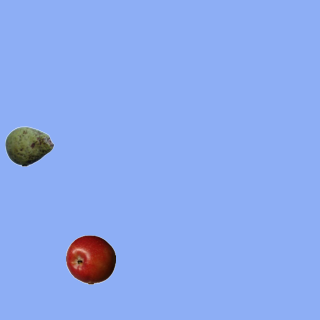Apple Braeburn: (65, 234, 115, 284)
Pear Stone: (4, 121, 54, 171)
